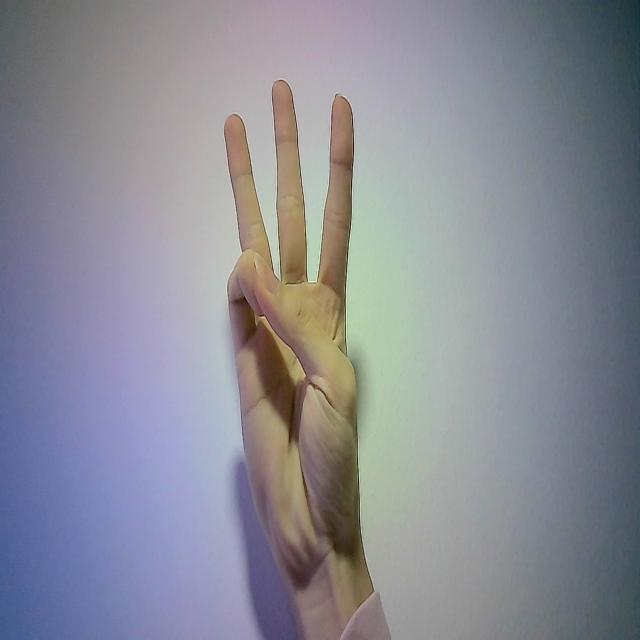W: (209, 70, 380, 576)
